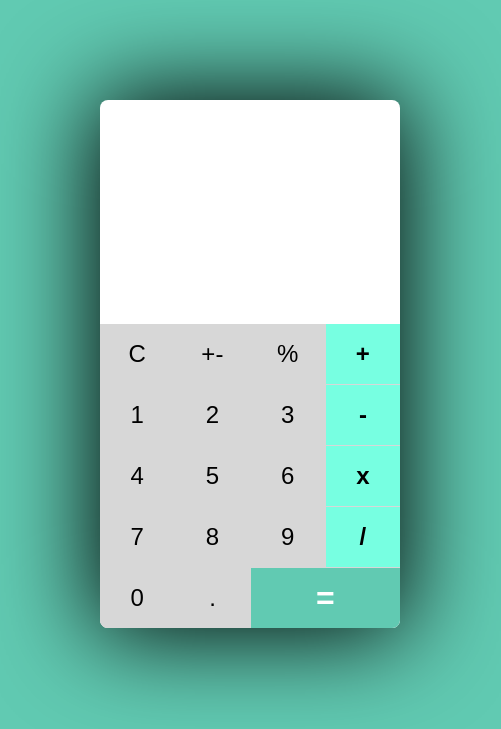
Test: Calculator › Should let substract two numbers
The image size is (501, 729).
Click the button "5". click: [212, 476]
box: [175,446,250,506]
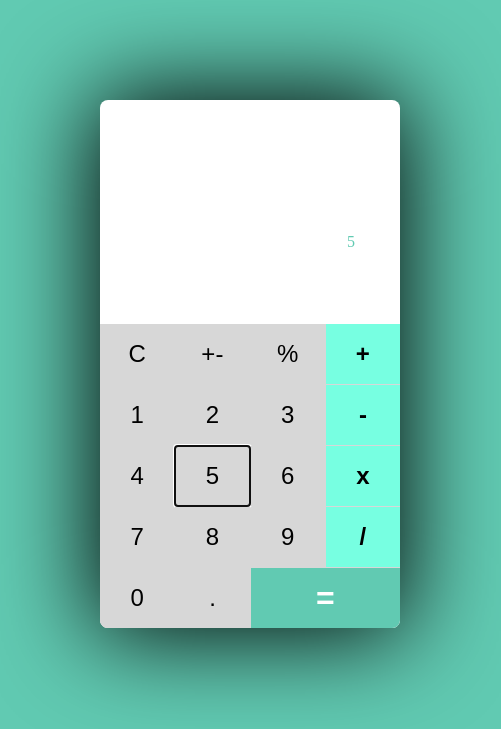
Click the button "-". click: [363, 415]
box: [326,385,400,445]
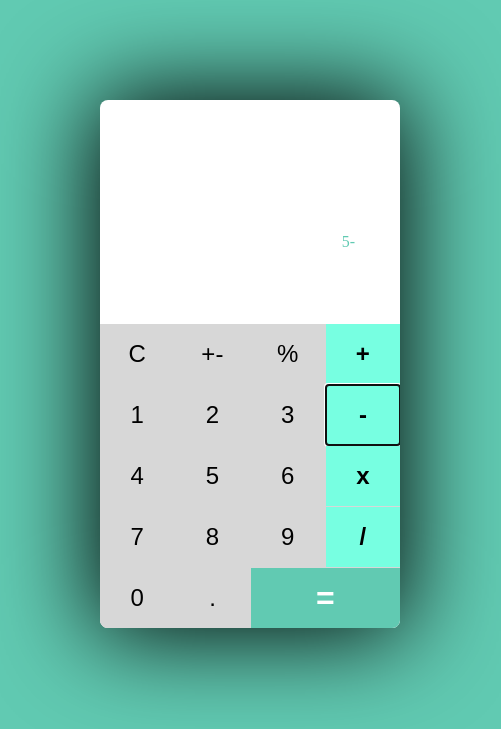
Click the button "1". click: [137, 415]
box: [100,385,174,445]
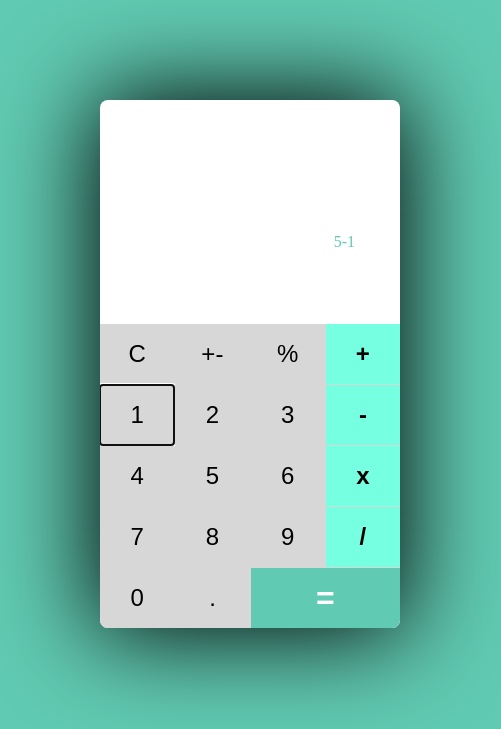
Click the button "=". click: [325, 598]
box: [251,568,400,628]
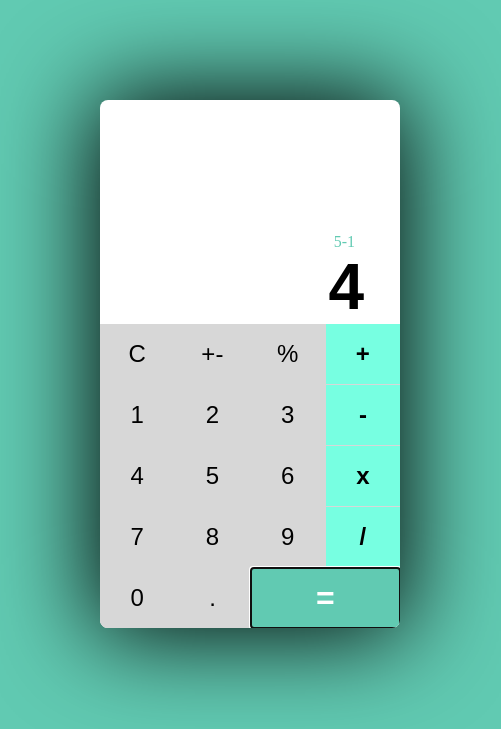
Expected: the field showing "4" is shown, [130,250,370,324]
